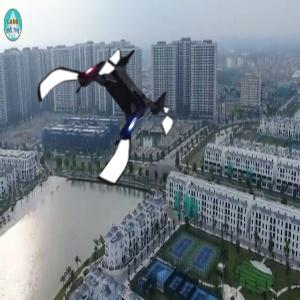drone: (35, 37, 177, 179)
